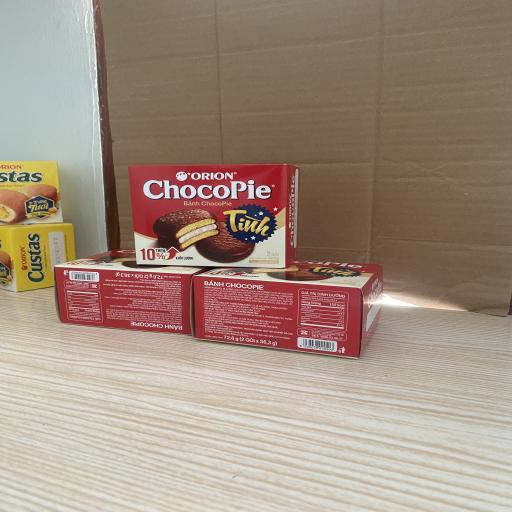chocopie: (190, 258, 384, 359), (128, 164, 300, 268), (54, 247, 217, 336)
custas: (0, 222, 76, 292), (0, 162, 64, 226)
